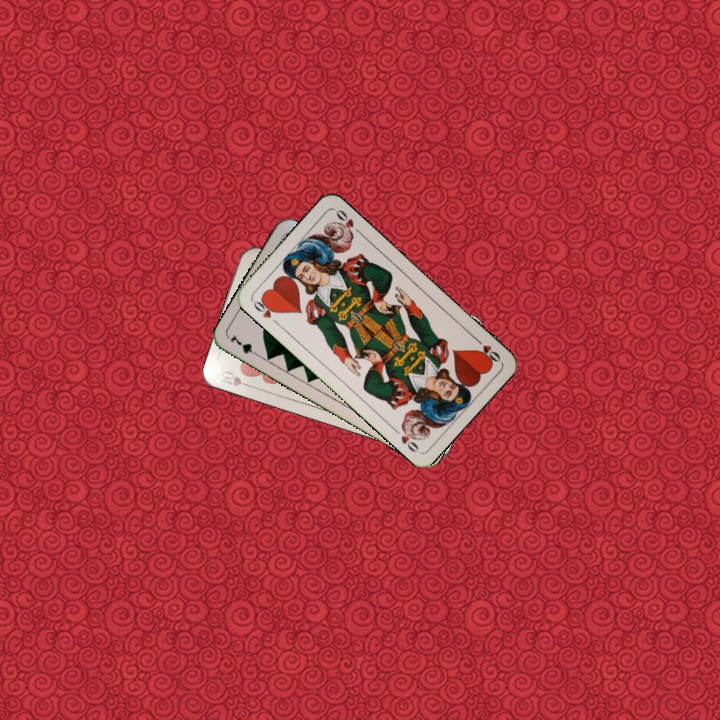G7: (226, 331, 263, 360)
H10: (214, 366, 255, 390)
HO: (248, 294, 282, 327), (470, 333, 503, 366)
